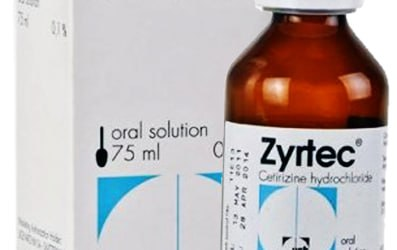Medicine: (225, 0, 385, 250)
